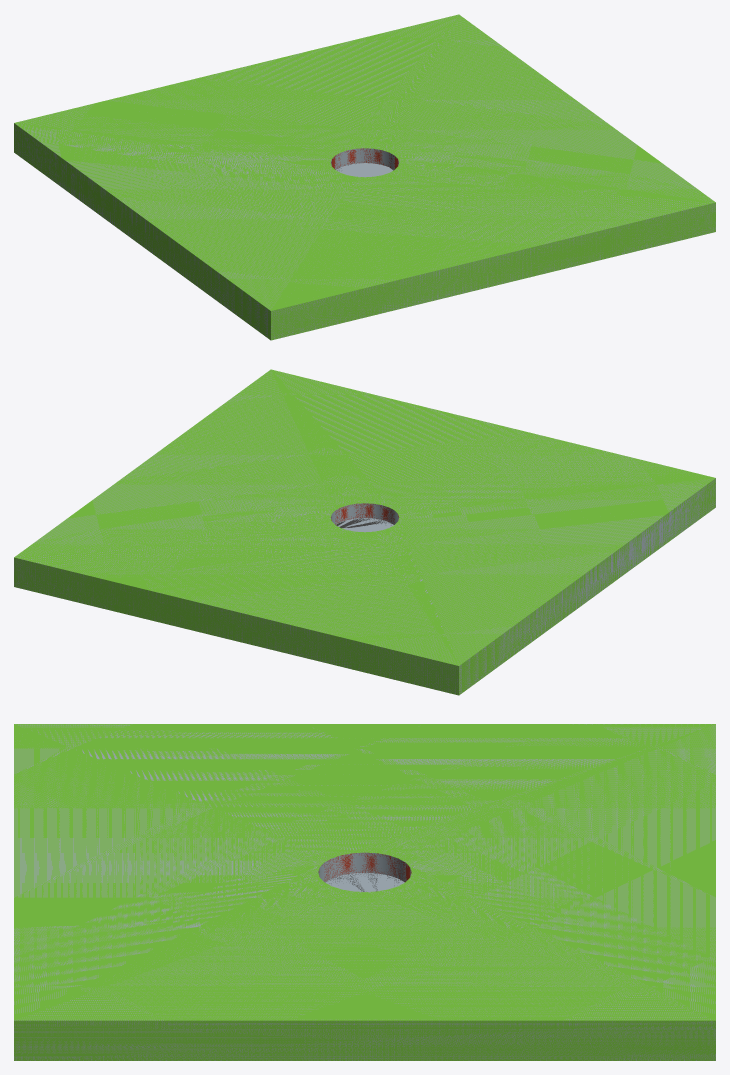
File: Hole_open_01.obj
The picture shows the model from 3 angles, top to bottom: view 1: azimuth 30°, elevation 25°; view 2: azimuth 150°, elevation 25°; view 3: azimuth 270°, elevation 25°; orthographic projection. The views are drawn at different scales.
Visible parts, largest first — view 1: Green.Green.Green.Green.Green.Green.Green.Green.Green.Green.Gree, BackColor.BackColor.BackColor.BackColor.BackColor.BackColor.Back; view 2: Green.Green.Green.Green.Green.Green.Green.Green.Green.Green.Gree, BackColor.BackColor.BackColor.BackColor.BackColor.BackColor.Back, Red.Red.Red.Red.Red.Red.Red.Red.Red.Red.Red.Red.Red.Red.Red.Red.; view 3: Green.Green.Green.Green.Green.Green.Green.Green.Green.Green.Gree, BackColor.BackColor.BackColor.BackColor.BackColor.BackColor.Back, Red.Red.Red.Red.Red.Red.Red.Red.Red.Red.Red.Red.Red.Red.Red.Red..
Part boxes in pixels (box(x1,y1,x2,y2)): Green.Green.Green.Green.Green.Green.Green.Green.Green.Green.Gree: box(14, 14, 715, 340); BackColor.BackColor.BackColor.BackColor.BackColor.BackColor.Back: box(14, 15, 715, 340); Green.Green.Green.Green.Green.Green.Green.Green.Green.Green.Gree: box(14, 369, 715, 695); BackColor.BackColor.BackColor.BackColor.BackColor.BackColor.Back: box(14, 370, 715, 694); Red.Red.Red.Red.Red.Red.Red.Red.Red.Red.Red.Red.Red.Red.Red.Red.: box(331, 503, 399, 524); Green.Green.Green.Green.Green.Green.Green.Green.Green.Green.Gree: box(14, 724, 715, 1060); BackColor.BackColor.BackColor.BackColor.BackColor.BackColor.Back: box(14, 724, 715, 1060); Red.Red.Red.Red.Red.Red.Red.Red.Red.Red.Red.Red.Red.Red.Red.Red.: box(319, 853, 411, 882).
Bounding box in the file's own units: 3 × 0.19 × 3.
